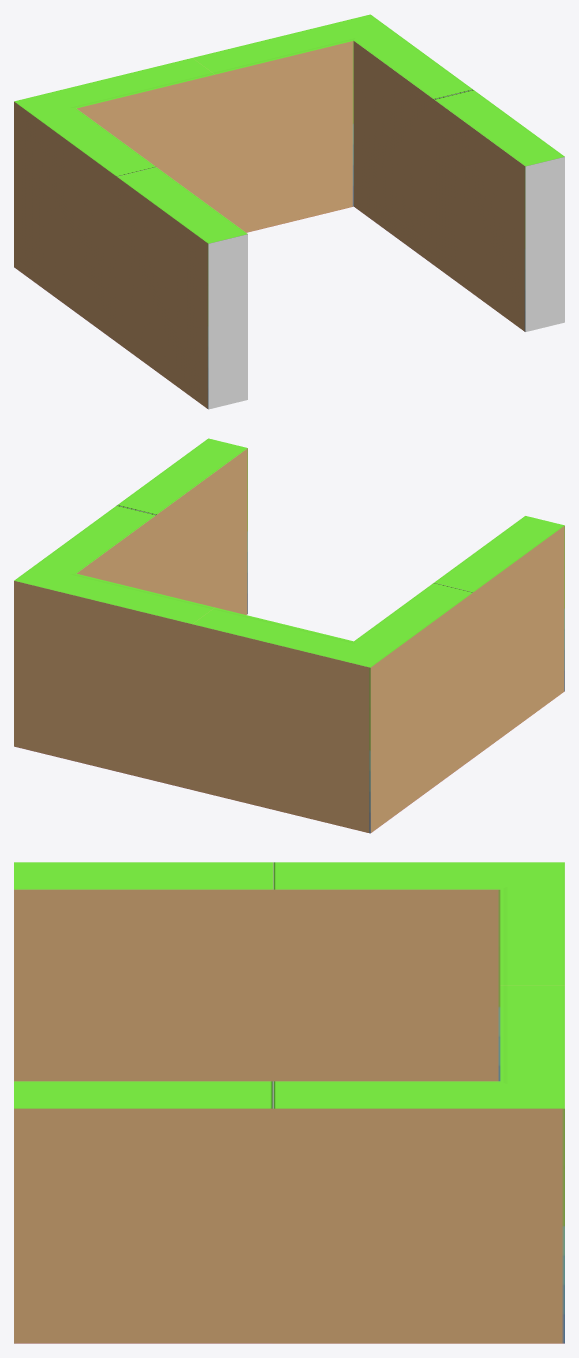
File: MK_MK_Wall_DeadEnd_Half_C.fbx
3 renders of one model, top to bottom at view 1: azimuth 30°, elevation 25°; view 2: azimuth 150°, elevation 25°; view 3: azimuth 270°, elevation 25°, orthographic. The views are drawn at different scales.
Parts seen in each view (by area): view 1: MK_Wall_DeadEnd_Half_C; view 2: MK_Wall_DeadEnd_Half_C; view 3: MK_Wall_DeadEnd_Half_C.
Part boxes in pixels (x1,y1,x2,y2): MK_Wall_DeadEnd_Half_C: [14, 14, 564, 409]; MK_Wall_DeadEnd_Half_C: [14, 438, 564, 833]; MK_Wall_DeadEnd_Half_C: [14, 862, 564, 1343].
Size of the model in its own units: 202 by 90 by 191.
Materials: 1 (1 with a texture image).
